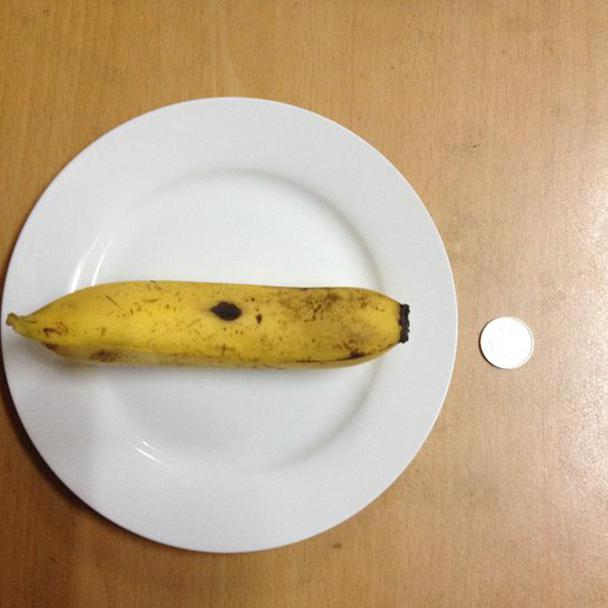banana: (8, 266, 416, 397)
